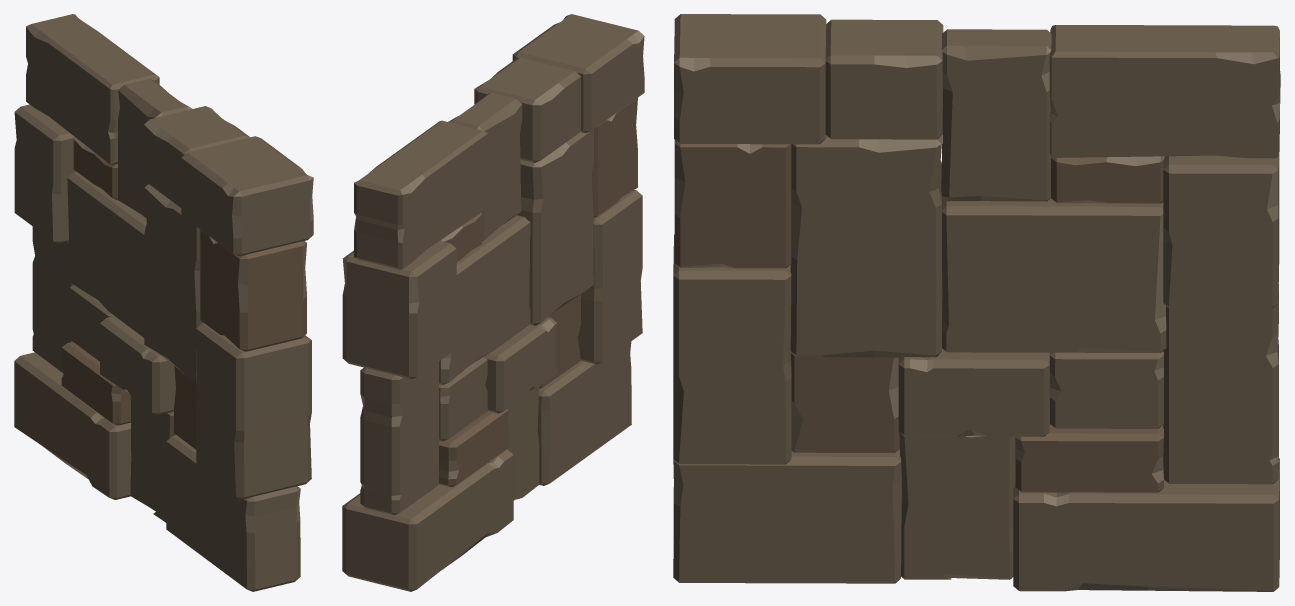
File: entrada_wall_west_3_lev3.glb
3 views of the same model, side by side, from view 1: azimuth 30°, elevation 25°; view 2: azimuth 150°, elevation 25°; view 3: azimuth 270°, elevation 25° (orthographic). The views are drawn at different scales.
Parts seen in each view (by area): view 1: entrada_wall_west_3_lev3; view 2: entrada_wall_west_3_lev3; view 3: entrada_wall_west_3_lev3.
Boxes of the visible parts, <box> form: entrada_wall_west_3_lev3: <box>14,14,313,591</box>; entrada_wall_west_3_lev3: <box>342,14,644,591</box>; entrada_wall_west_3_lev3: <box>673,14,1280,591</box>.
Size of the model in its own units: 1.26 by 6 by 6.18.
